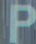Parking: (8, 2, 34, 43)
